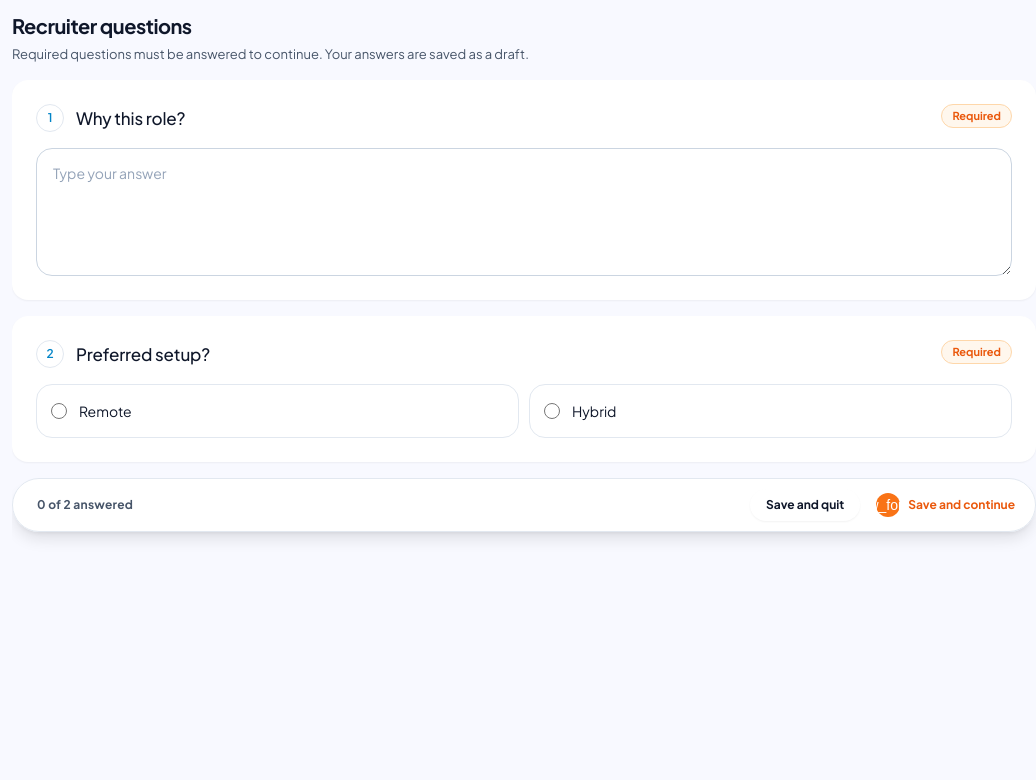
Test: RecruiterQuestionsStep › saves a partial draft but stays on the step while a required question is unanswered
Type "Only this one" into the text box named "Why this role?" at (524, 212), box x1=36 y1=148 x2=1012 y2=276
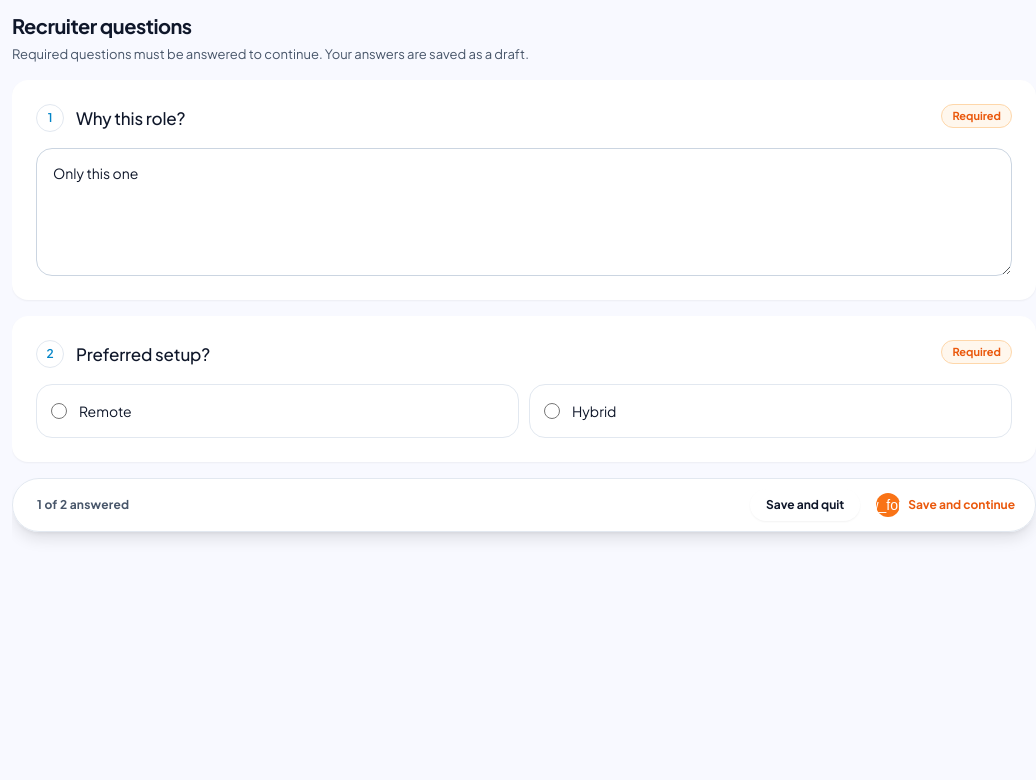
Click the button "Save and continue" at (949, 505), box x1=872 y1=489 x2=1025 y2=521
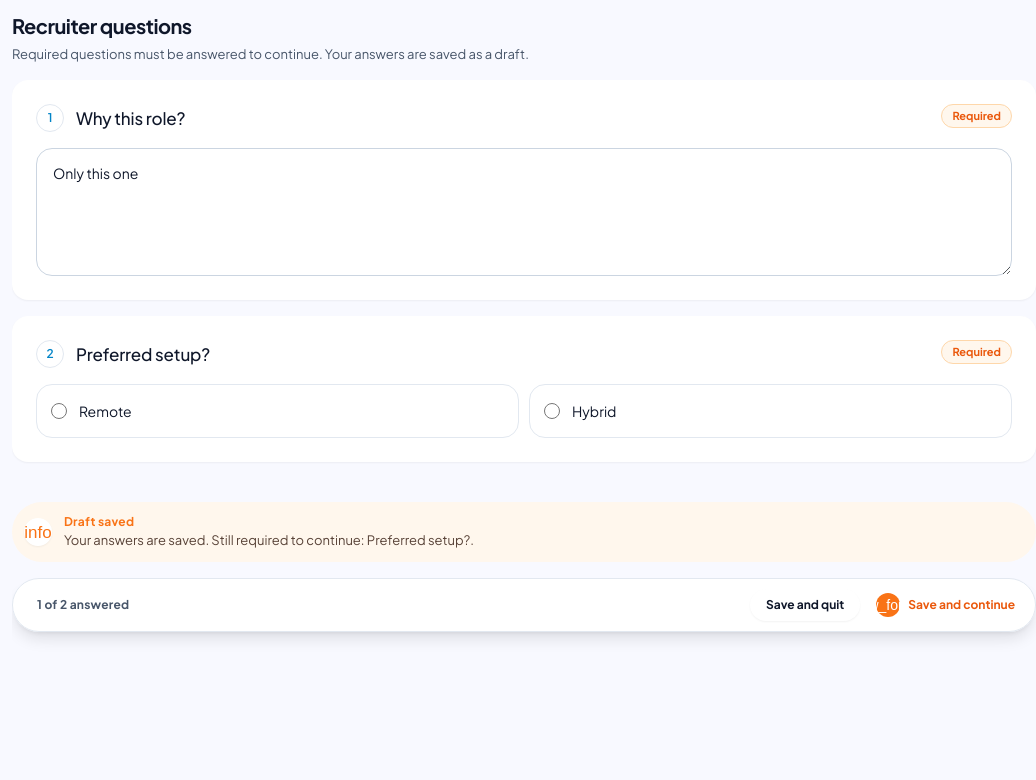
Result: the text "Your answers are saved. Still required to continue: Preferred setup?." is shown at x1=64 y1=532 x2=474 y2=548
